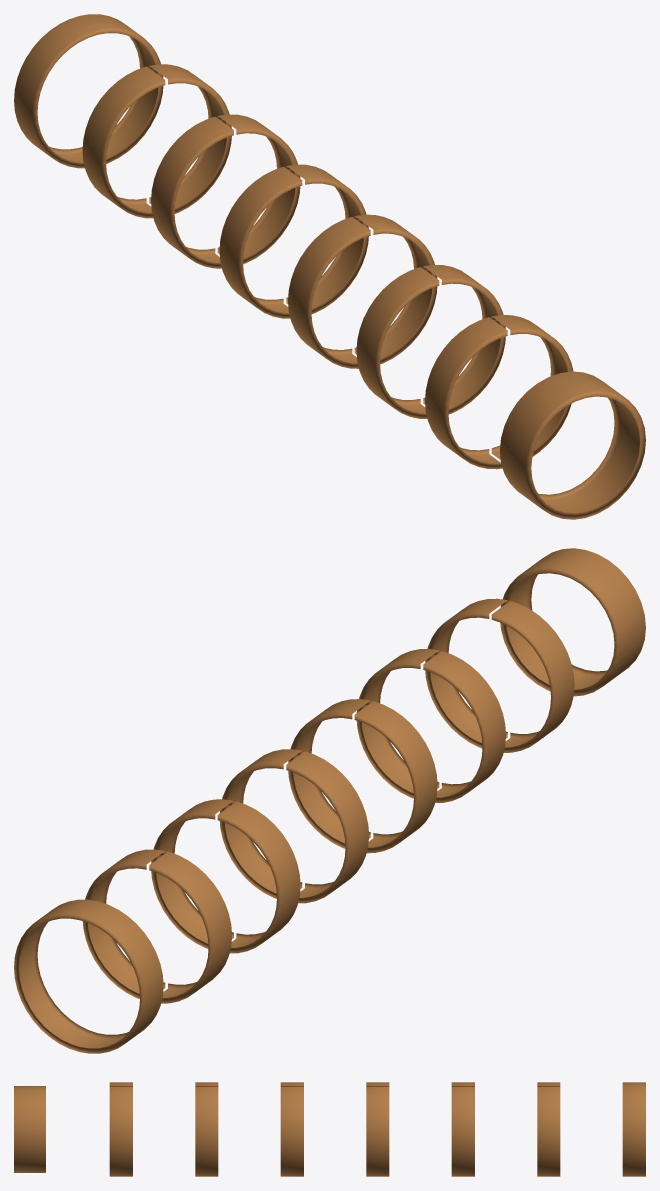
File: main-bearings.glb
The picture shows the model from 3 angles, top to bottom: view 1: azimuth 30°, elevation 25°; view 2: azimuth 150°, elevation 25°; view 3: azimuth 270°, elevation 25°; orthographic projection. The views are drawn at different scales.
Parts seen in each view (by area): view 1: main-bearings:bronze; view 2: main-bearings:bronze; view 3: main-bearings:bronze.
Part boxes in pixels (bbox=[...]): main-bearings:bronze: bbox=[14, 14, 645, 519]; main-bearings:bronze: bbox=[14, 548, 645, 1053]; main-bearings:bronze: bbox=[14, 1082, 645, 1176].
Bounding box in the file's own units: 65.2 × 65.2 × 436.
